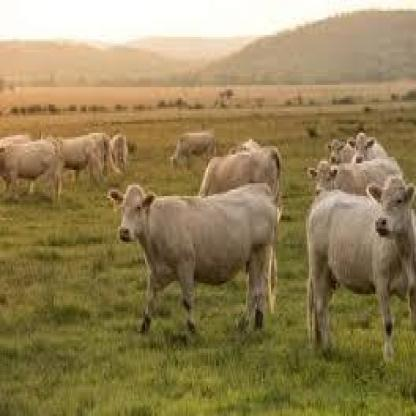cow: (108, 186, 276, 332), (307, 178, 416, 361), (198, 149, 280, 197), (309, 159, 400, 198), (0, 141, 60, 200), (41, 135, 99, 185), (171, 132, 217, 173)
